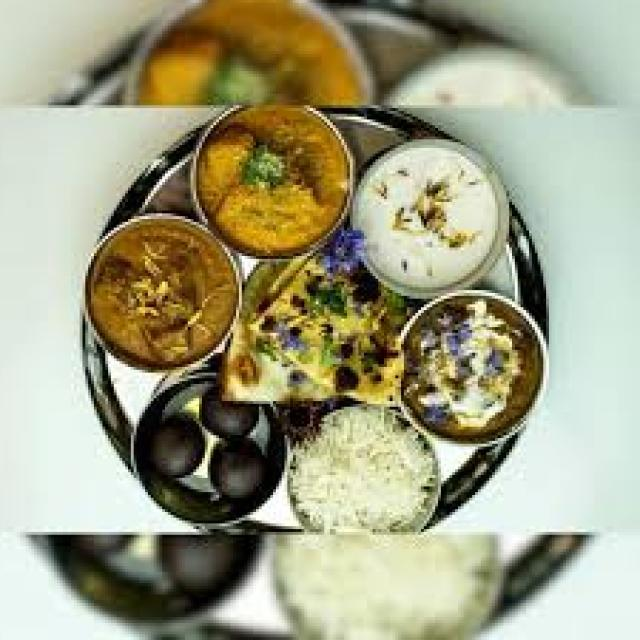sambar-rasam: (133, 415, 206, 483), (205, 440, 279, 506)
sweet: (354, 139, 507, 294), (194, 392, 263, 444)
veg-fry: (232, 259, 399, 415), (299, 410, 438, 540)
